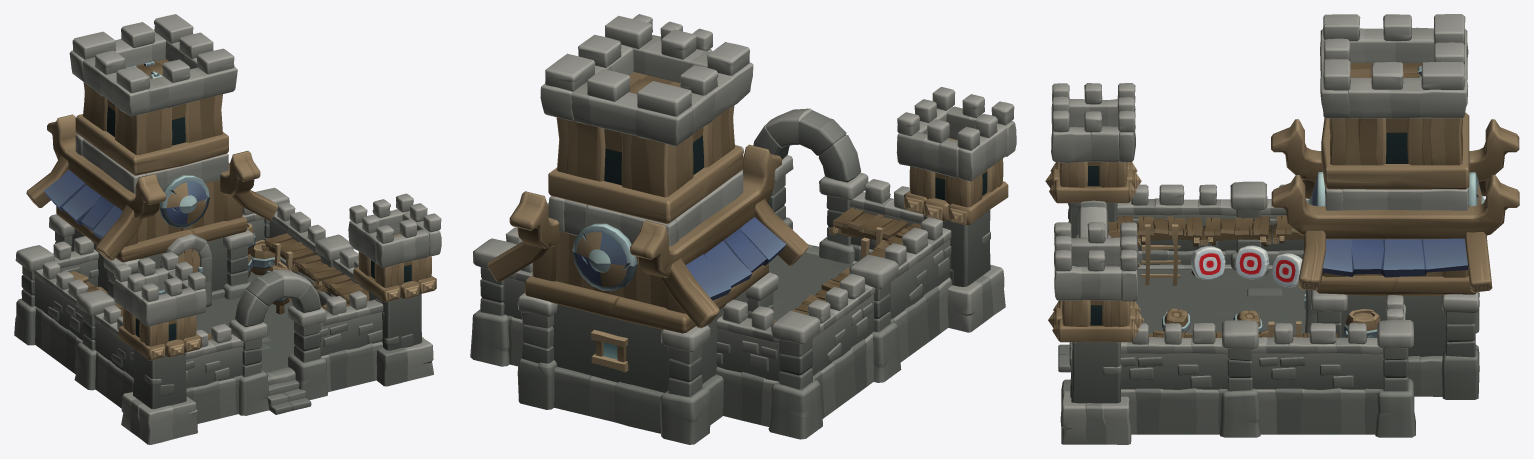
Rendered from bigBarracks.glb.
3 renders of one model, left to right at view 1: azimuth 30°, elevation 25°; view 2: azimuth 150°, elevation 25°; view 3: azimuth 270°, elevation 25°, orthographic. The views are drawn at different scales.
Visible parts, largest first — view 1: barrack_Lv3; view 2: barrack_Lv3; view 3: barrack_Lv3.
Part boxes in pixels (x1,y1,x2,y2): barrack_Lv3: [14, 14, 441, 444]; barrack_Lv3: [470, 14, 1016, 444]; barrack_Lv3: [1045, 14, 1519, 444].
Bounding box in the file's own units: 12.67 × 10.72 × 14.5.
1 material, 1 textured.
